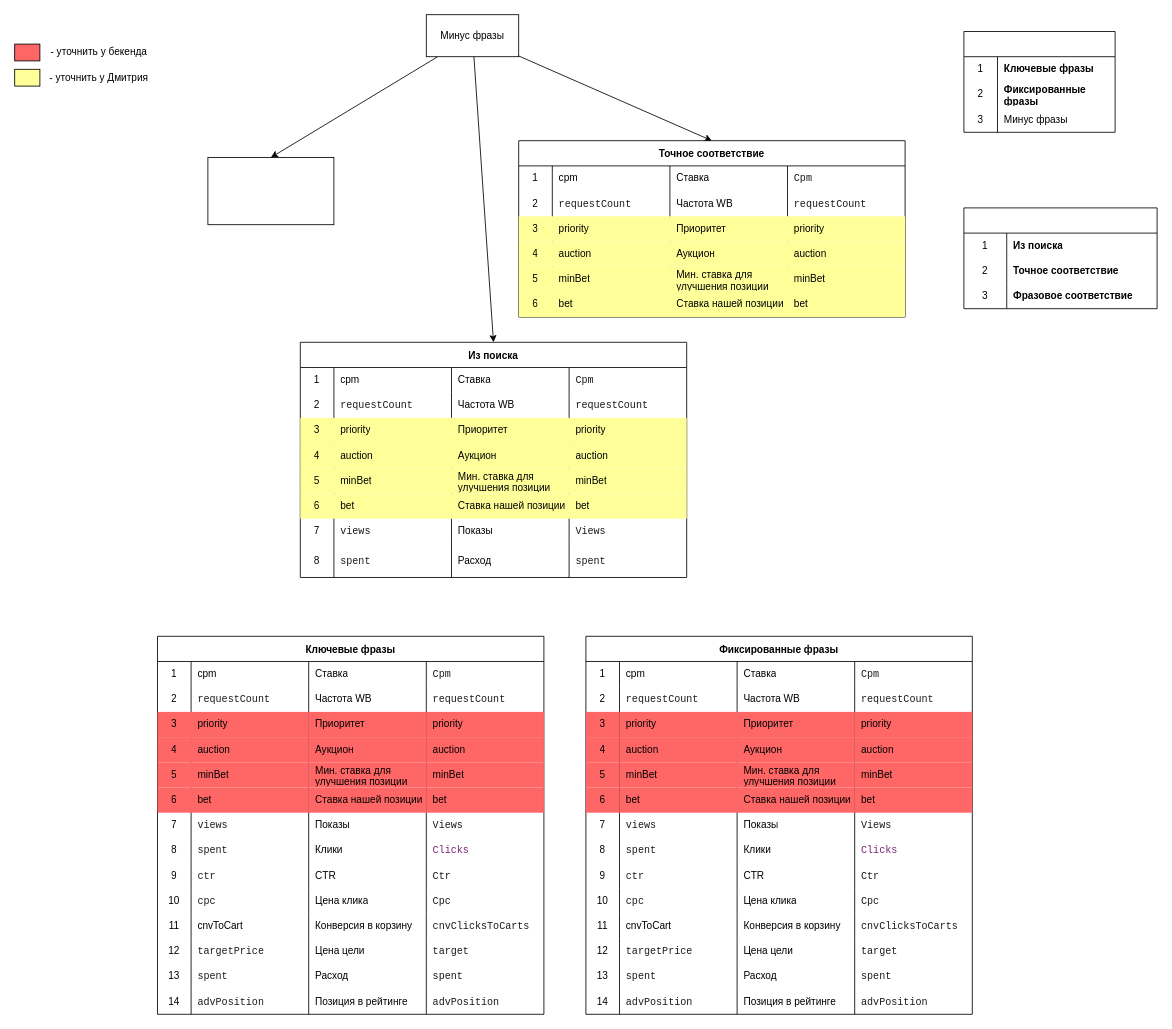
The diagram is 1172 pixels wide and 1029 high, and some of its shapes have lost their labels. Here are the shapes that lost their labels. From the top down, the box of each, then its label:
(963, 31, 1115, 132): Вкладки таблицы
(207, 157, 334, 225): Фразовое соответствие (здесь будут просто фразы)
(963, 207, 1157, 309): Подкладки вкладки минус фразы
